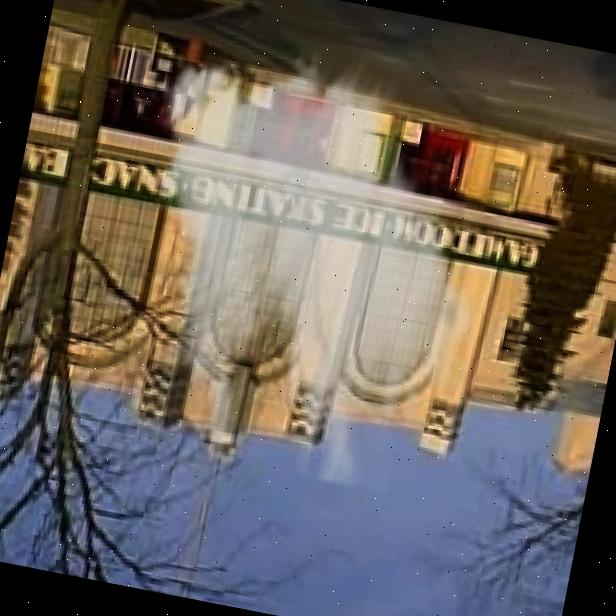smoke: (80, 19, 529, 507)
